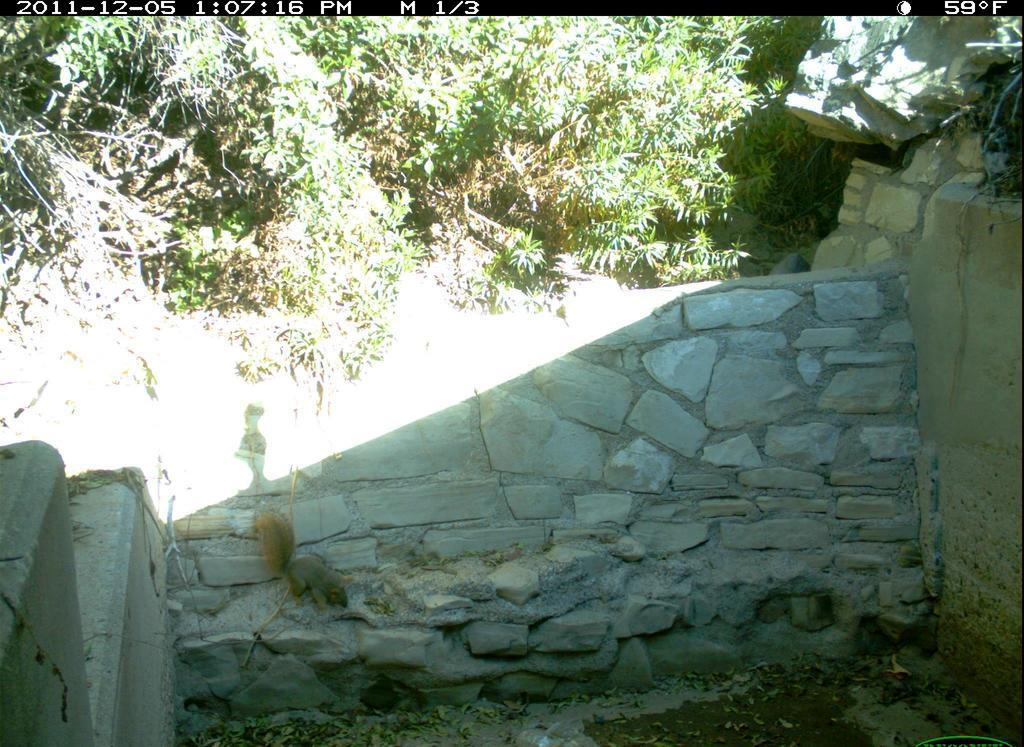squirrel: (255, 505, 354, 614)
